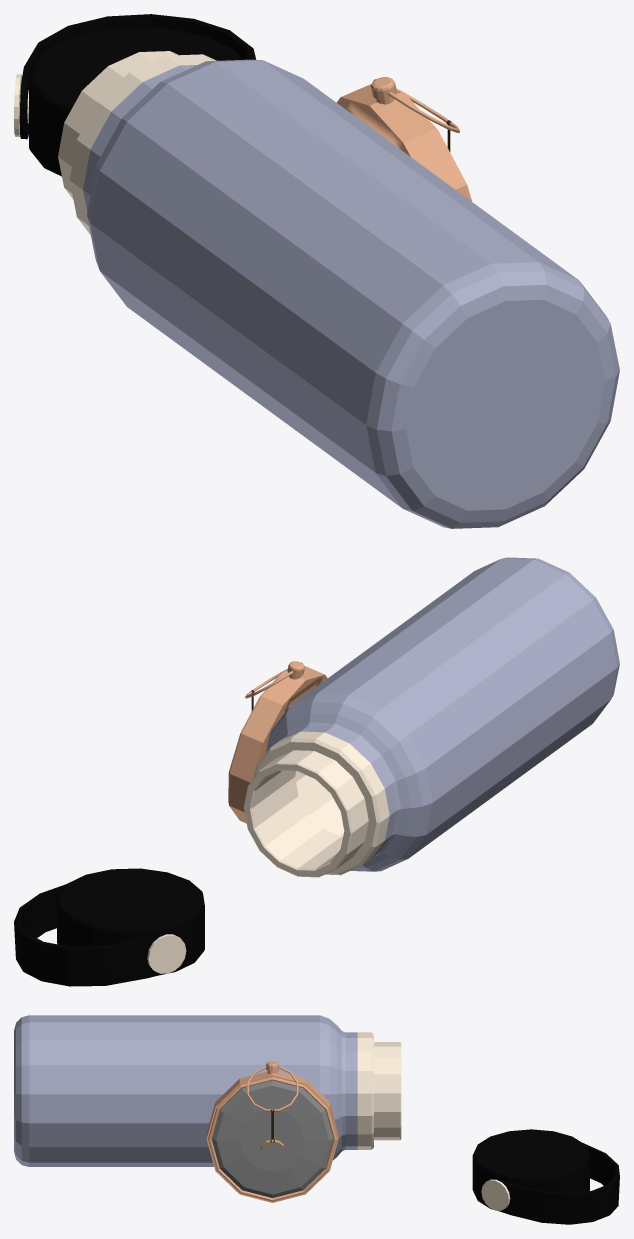
Rendered from TravelScene.fbx.
3 views of the same model, one above another, from view 1: azimuth 30°, elevation 25°; view 2: azimuth 150°, elevation 25°; view 3: azimuth 270°, elevation 25° (orthographic). The views are drawn at different scales.
Parts seen in each view (by area): view 1: BottleBody, MainCap, CompassBody, CapHandle; view 2: BottleBody, MainCap, CapHandle, CompassBody; view 3: BottleBody, CompassBody, MainCap, CapHandle, CompassRing.
Boxes of the visible parts, box(x1,y1,x2,y2) form: BottleBody: box(58, 51, 619, 528); MainCap: box(14, 27, 242, 176); CompassBody: box(336, 77, 472, 201); CapHandle: box(19, 14, 255, 139); BottleBody: box(243, 557, 619, 877); MainCap: box(57, 868, 204, 975); CapHandle: box(14, 884, 171, 986); CompassBody: box(228, 661, 327, 823); BottleBody: box(14, 1015, 401, 1166); CompassBody: box(206, 1061, 338, 1202); MainCap: box(472, 1129, 589, 1210); CapHandle: box(493, 1143, 619, 1224); CompassRing: box(247, 1066, 298, 1111).
Bounding box in the file's own units: 227 × 151 × 598.
